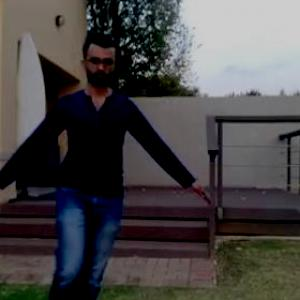land: (1, 46, 178, 299)
